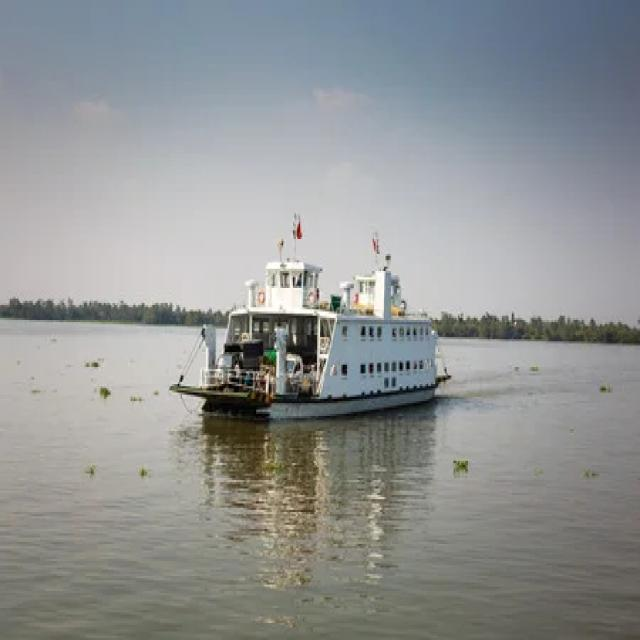passenger ship: (170, 250, 449, 422)
